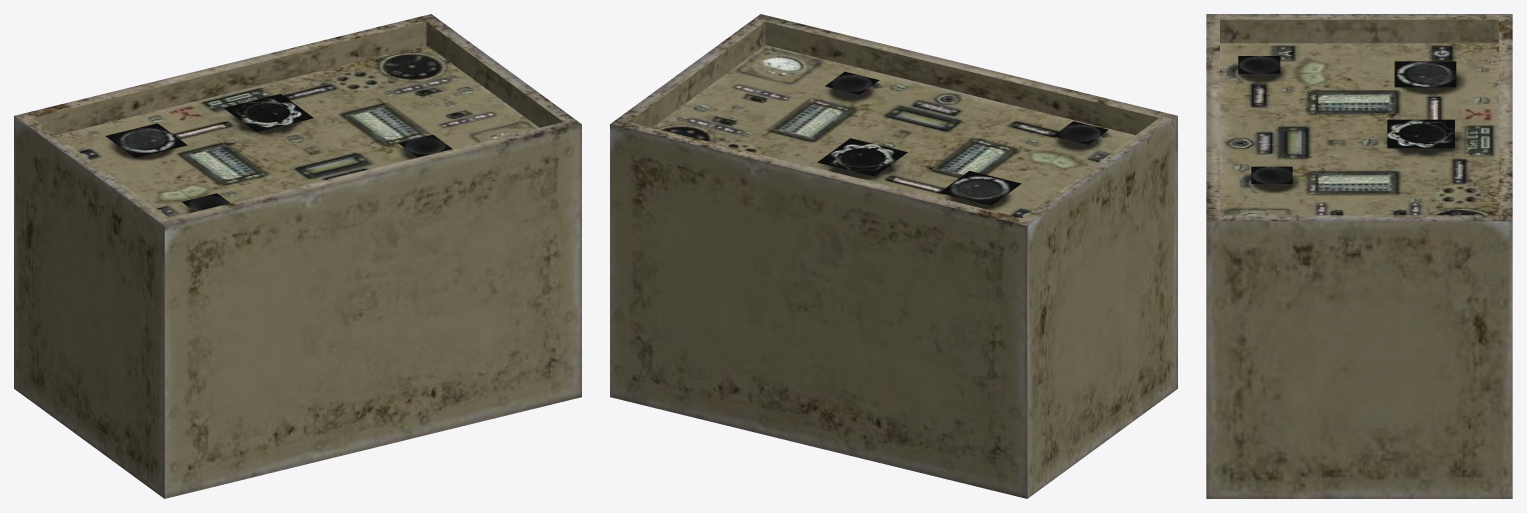
The model's file is military_german_fieldradio_tan.glb.
The picture shows the model from 3 angles, left to right: view 1: azimuth 30°, elevation 25°; view 2: azimuth 150°, elevation 25°; view 3: azimuth 270°, elevation 25°; orthographic projection.
Bounding box in the file's own units: 24.43 × 15.27 × 15.27.
Materials: 2 (2 with a texture image).
